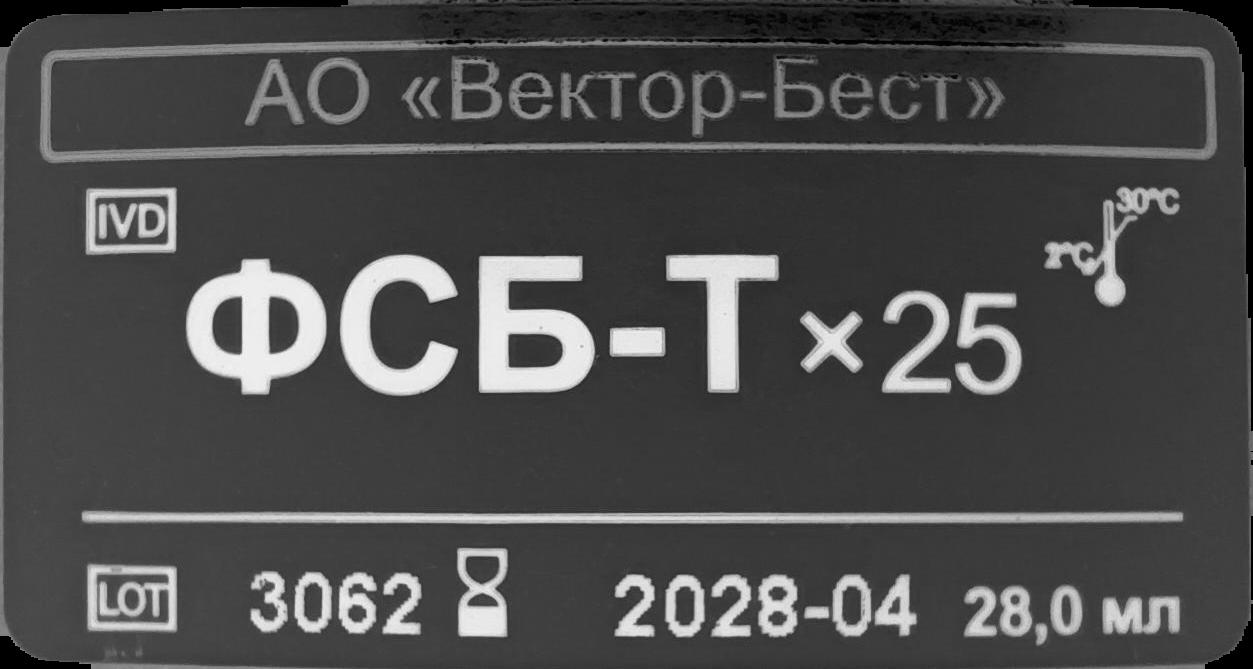something: (1040, 180, 1187, 309), (80, 183, 180, 257), (81, 560, 181, 634), (454, 545, 515, 641)
text: (180, 253, 1027, 401), (236, 48, 1009, 141), (610, 570, 925, 646), (960, 580, 1188, 652), (245, 563, 424, 644)
